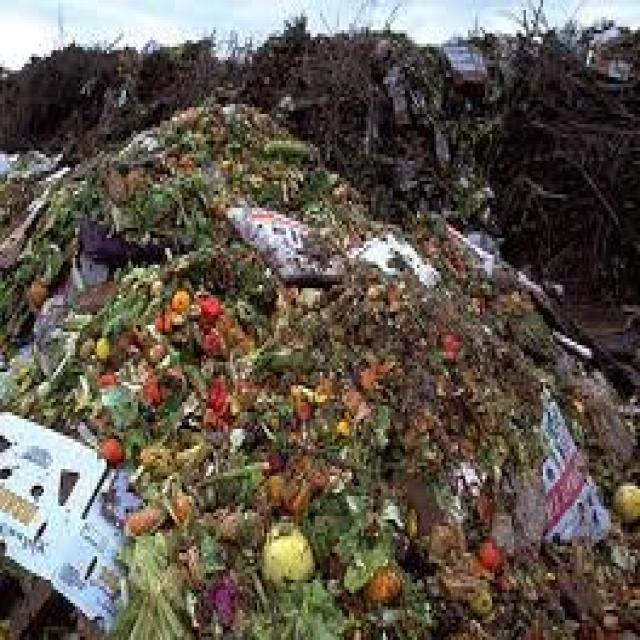food_waste: (159, 326, 413, 624), (546, 430, 640, 571)
